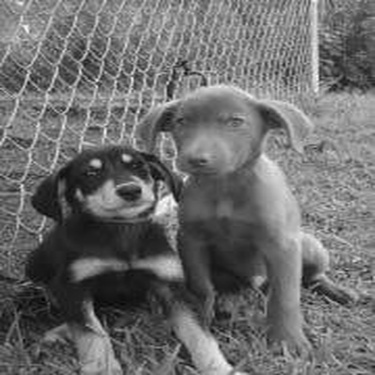dog: (121, 77, 363, 365), (1, 149, 238, 360)
